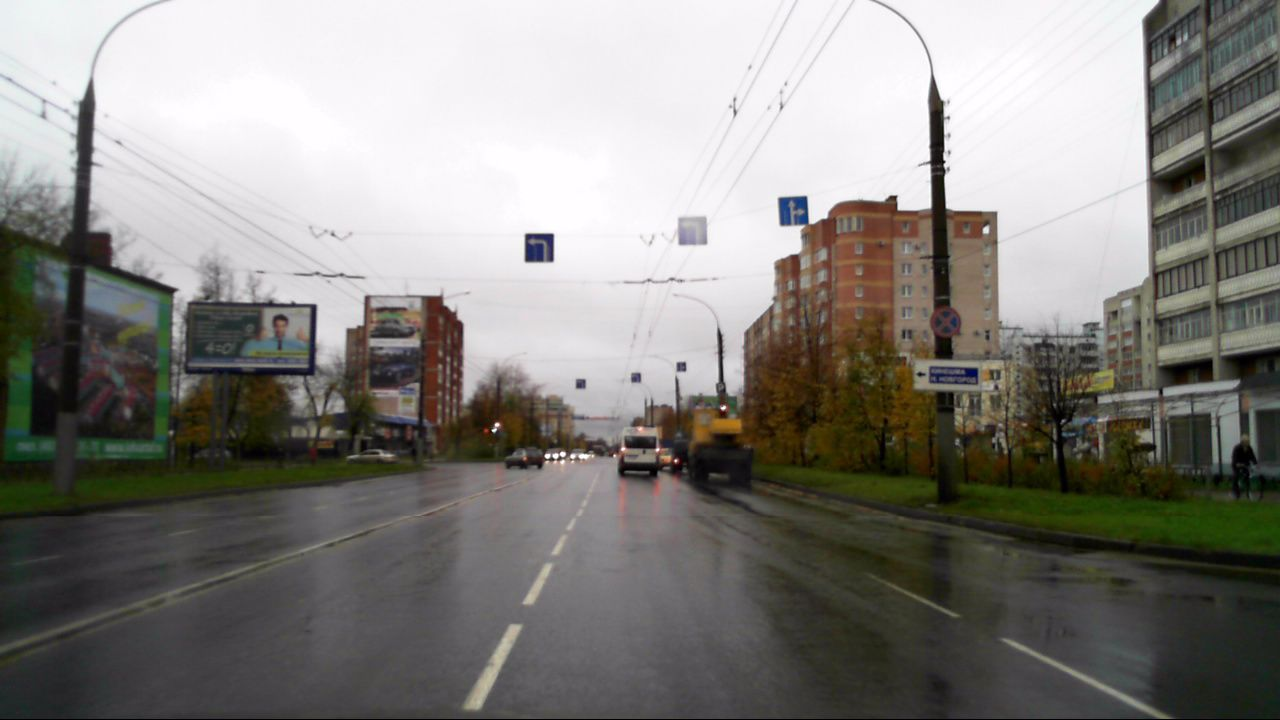No Parking: (928, 306, 960, 337)
